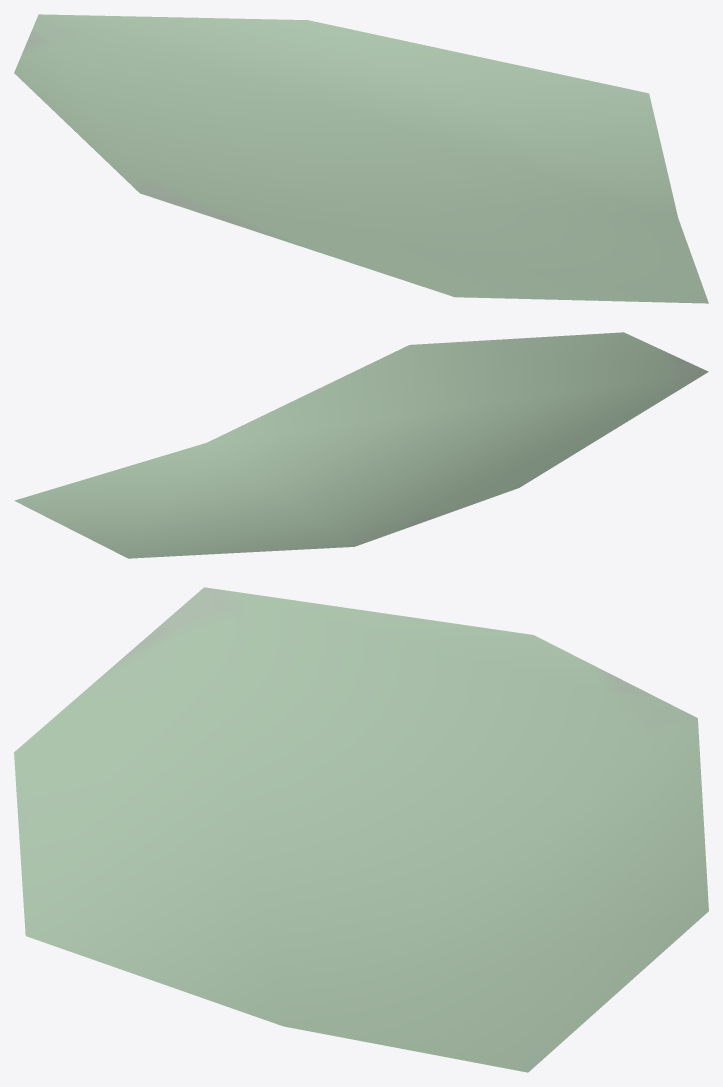
The model's file is TROLLHOLE02_HOLECAP101.fbx.
3 views of the same model, one above another, from view 1: azimuth 30°, elevation 25°; view 2: azimuth 150°, elevation 25°; view 3: azimuth 270°, elevation 25° (orthographic). The views are drawn at different scales.
Visible parts, largest first — view 1: TROLLHOLE02_HOLECAP101; view 2: TROLLHOLE02_HOLECAP101; view 3: TROLLHOLE02_HOLECAP101.
Part boxes in pixels (left/top/right/bottom): TROLLHOLE02_HOLECAP101: left=14, top=14, right=708, bottom=303; TROLLHOLE02_HOLECAP101: left=14, top=332, right=708, bottom=558; TROLLHOLE02_HOLECAP101: left=14, top=587, right=708, bottom=1072.
Bounding box in the file's own units: 23442 × 6470 × 22553.
Materials: 1 (1 with a texture image).
